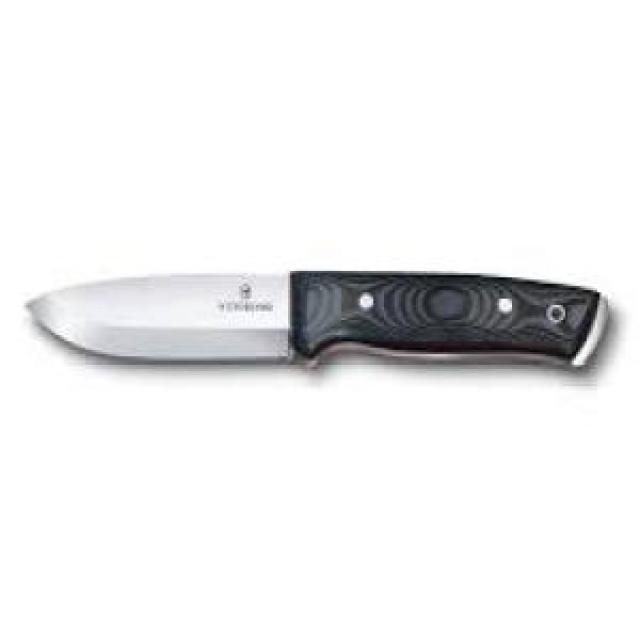knife: (23, 260, 622, 374)
